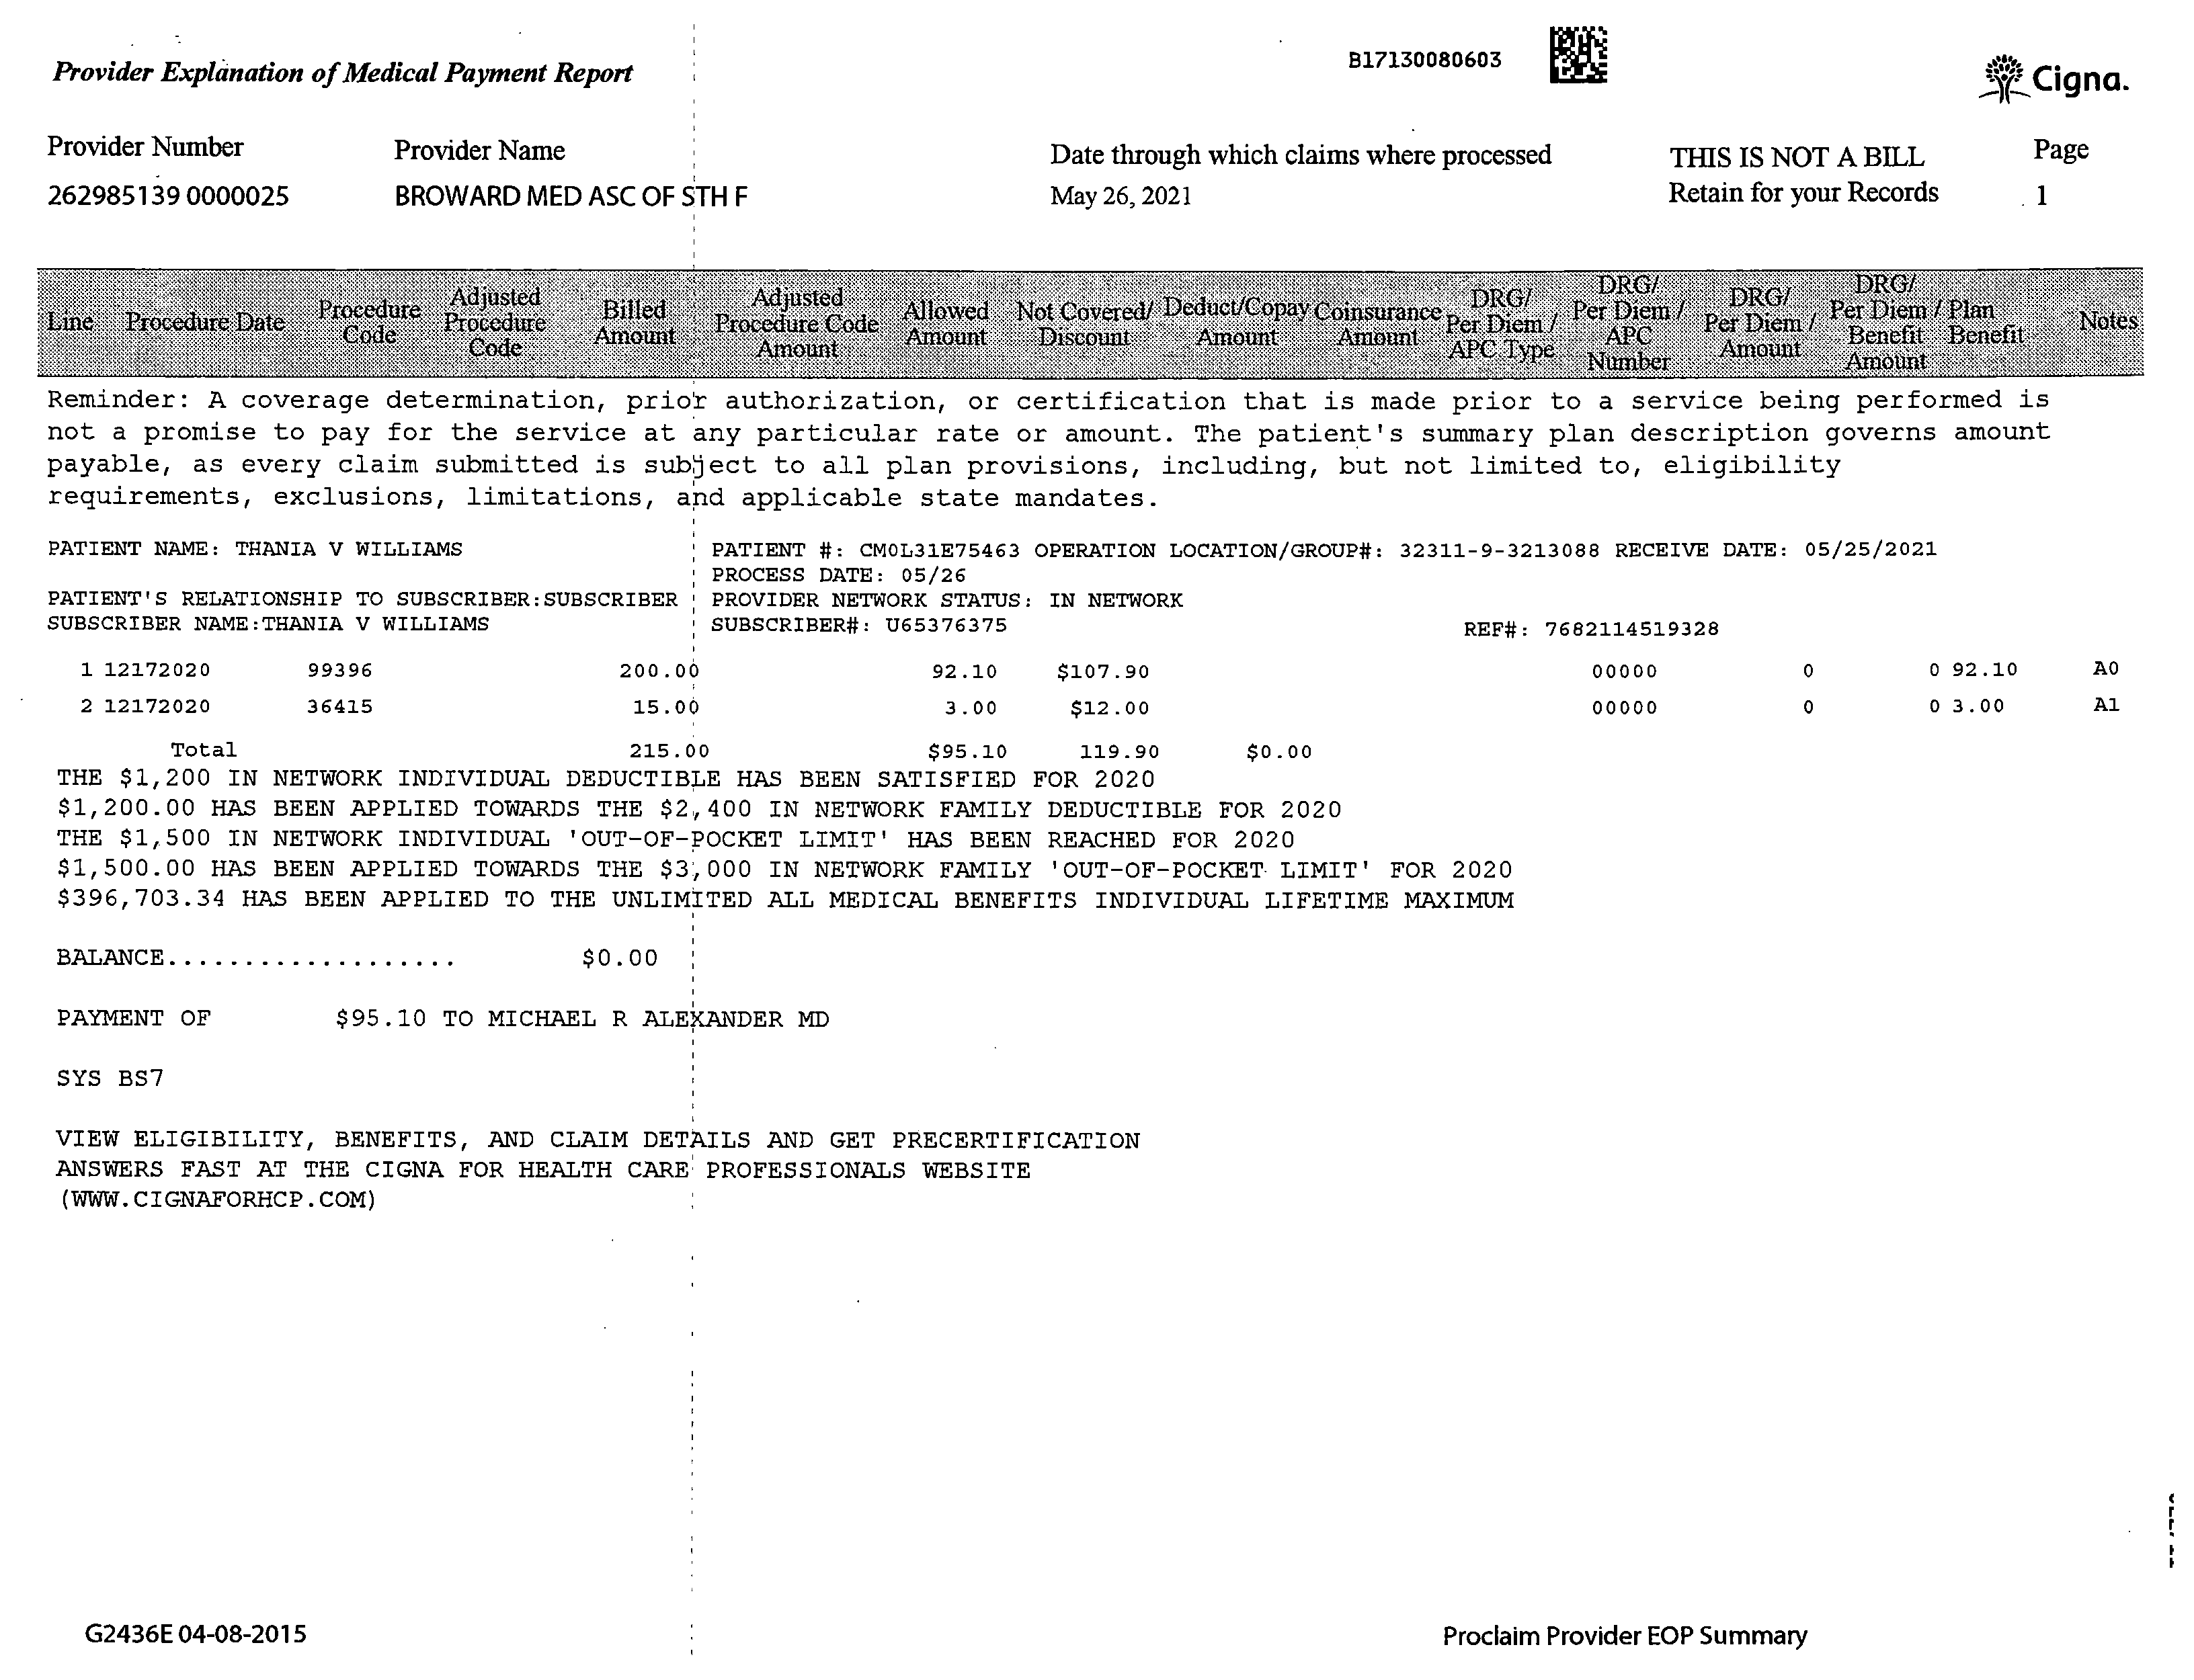data: (25, 115, 773, 231)
